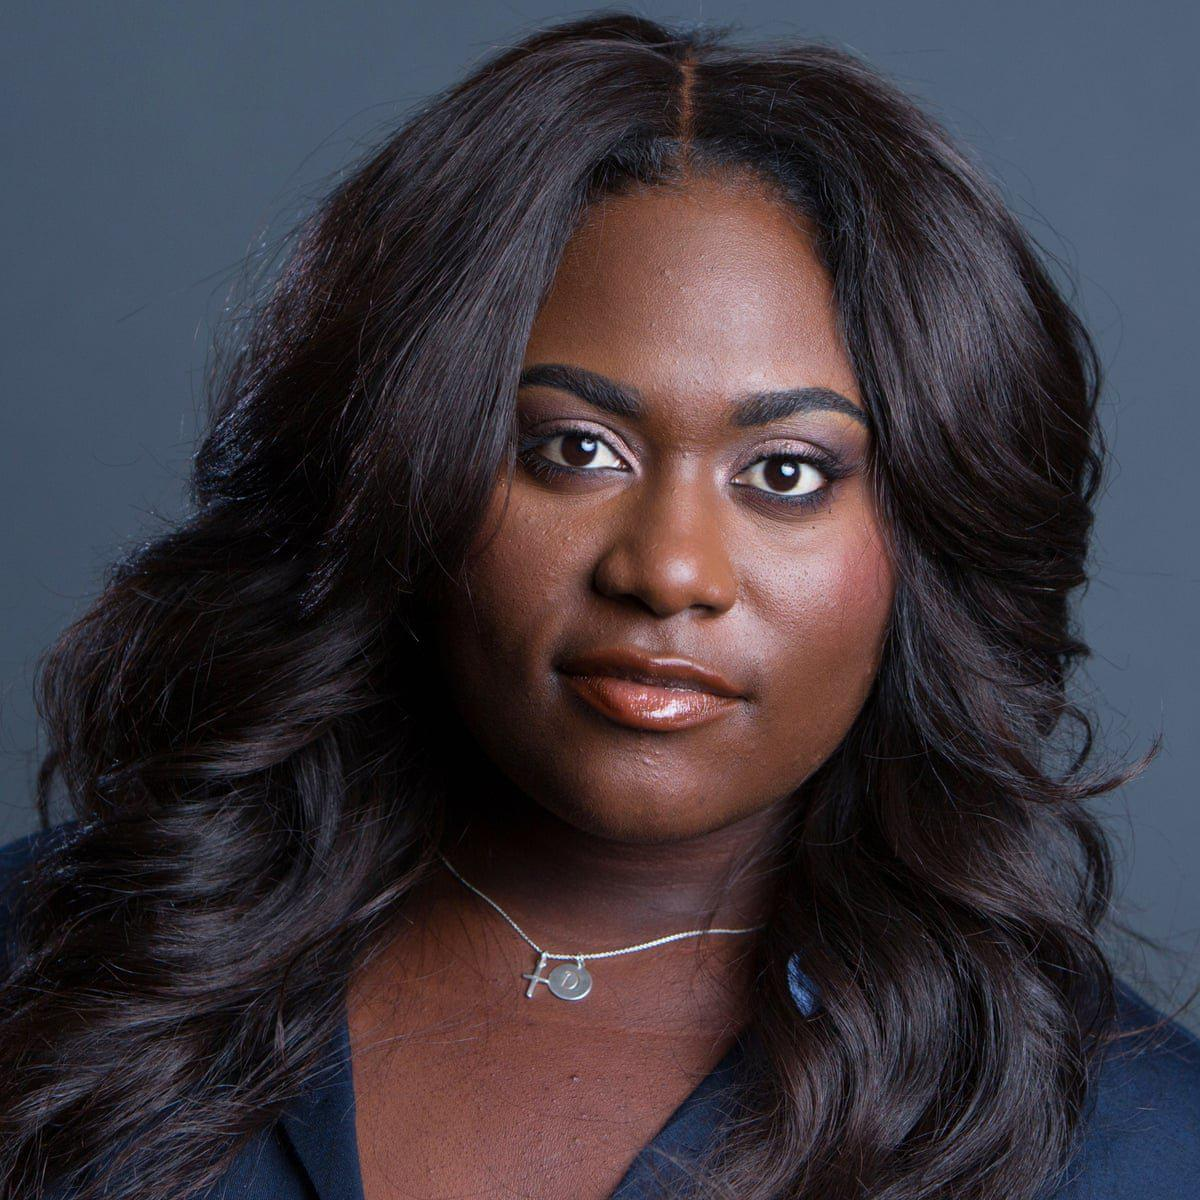Sober: (486, 231, 887, 811)
